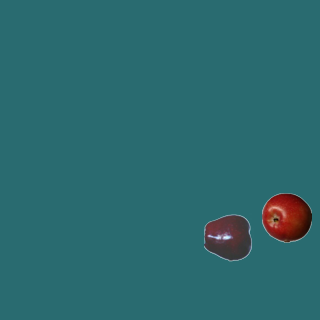Apple Braeburn: (261, 192, 311, 242)
Apple Red Delicious: (203, 212, 253, 262)
